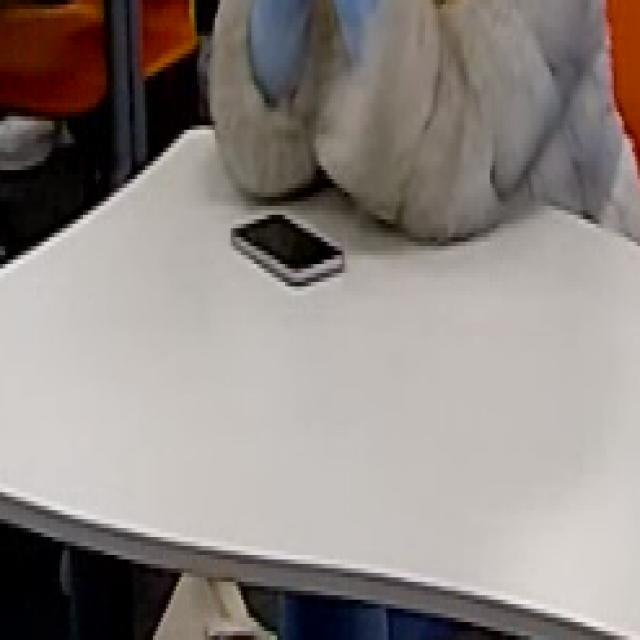phone: (212, 180, 370, 330)
